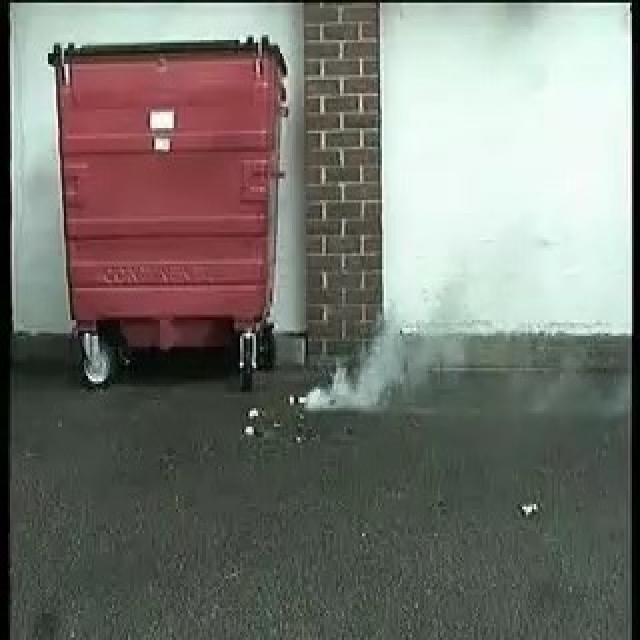smoke: (309, 338, 423, 416)
